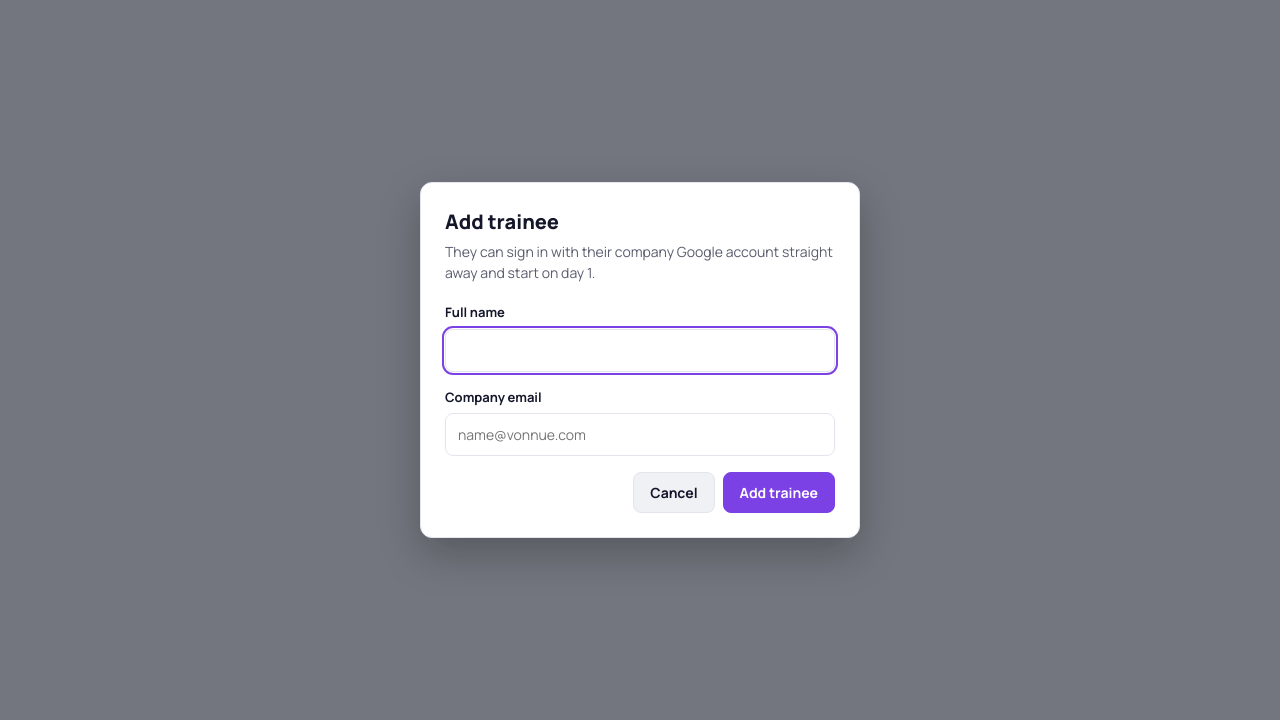
AddTraineeDialog › disables the form while saving
Type "Asha Rao" into the field labelled "Full name".
click(640, 350); type("Asha Rao")  # box [445,328,835,372]
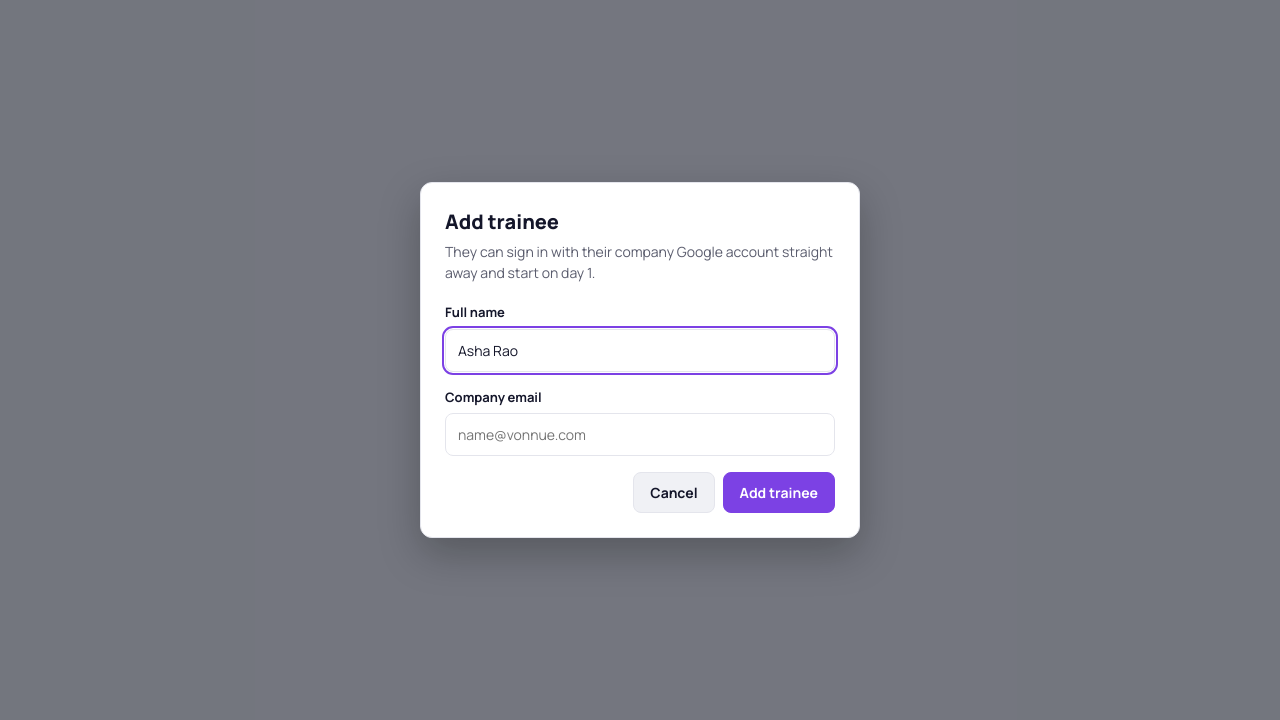
Type "asha.rao@vonnue.com" into the field labelled "Company email".
click(640, 434); type("asha.rao@vonnue.com")  # box [445,413,835,456]
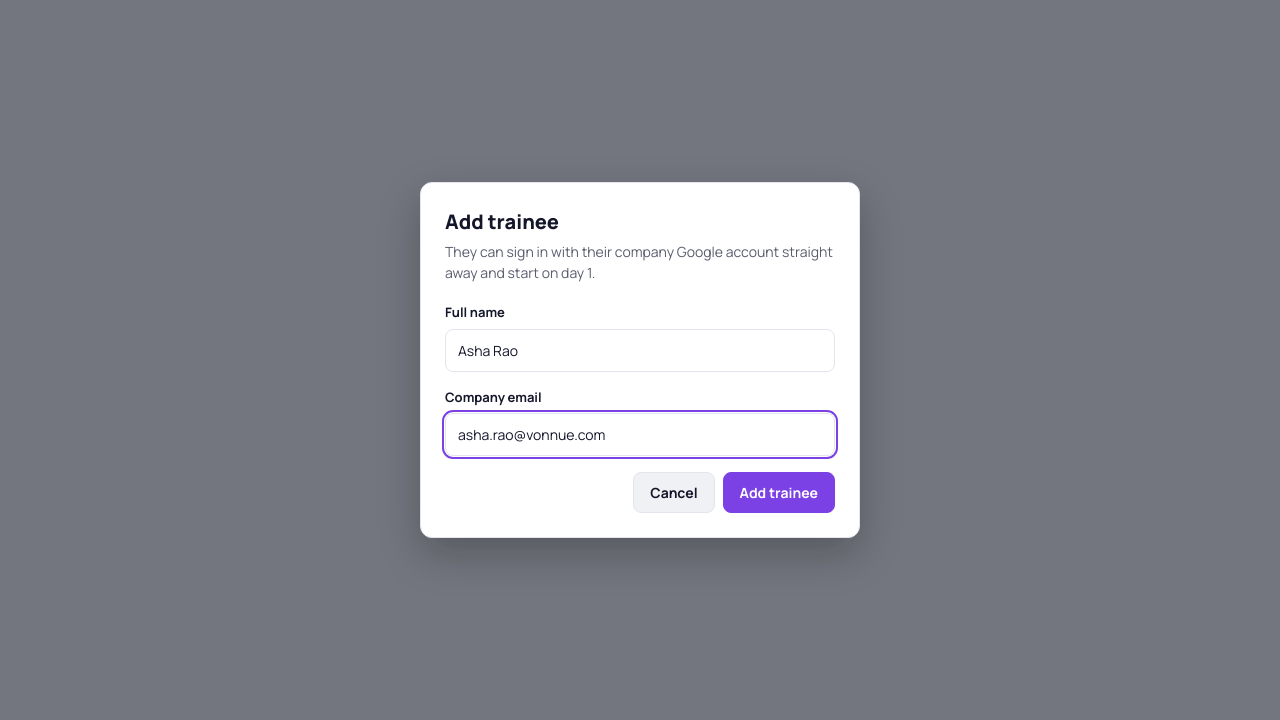
Click the button "Add trainee".
click(779, 492)  # box [723,472,835,513]
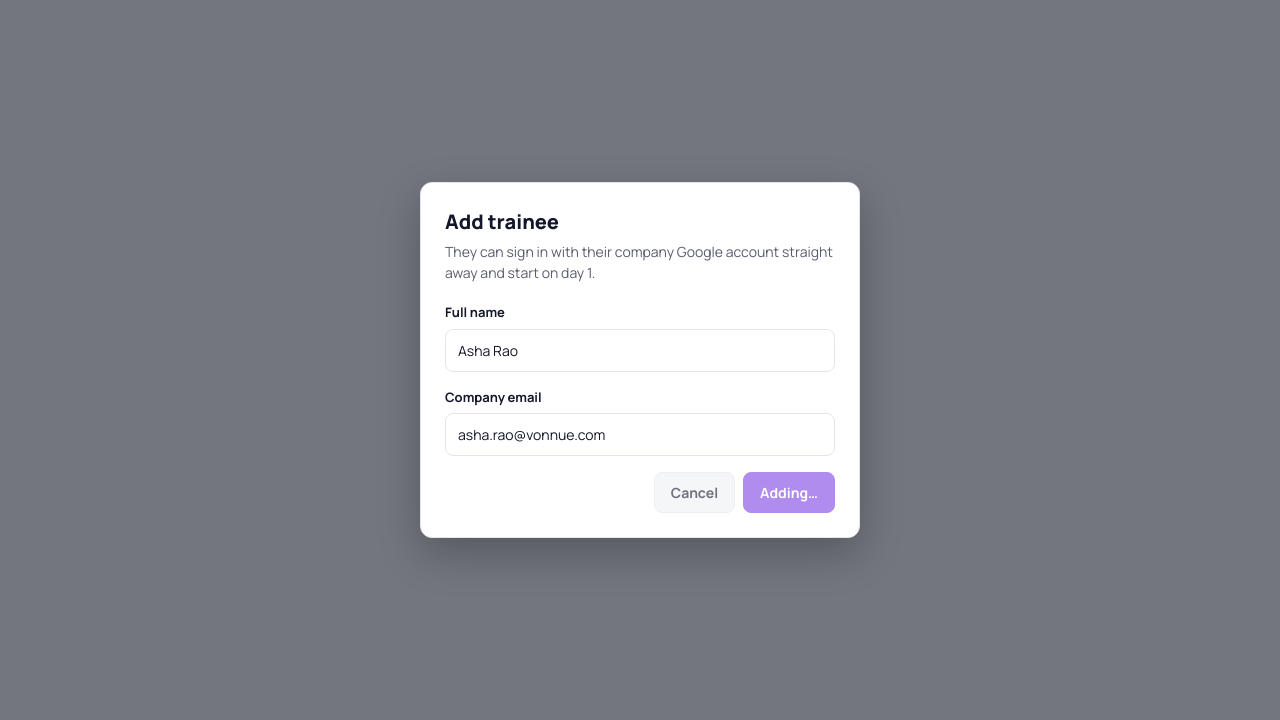
Expected: the field labelled "Full name" is disabled, [445,328,835,372]
Now the button "Adding…" is disabled, box [743,472,835,513]
Now the button "Cancel" is disabled, box [654,472,735,513]
